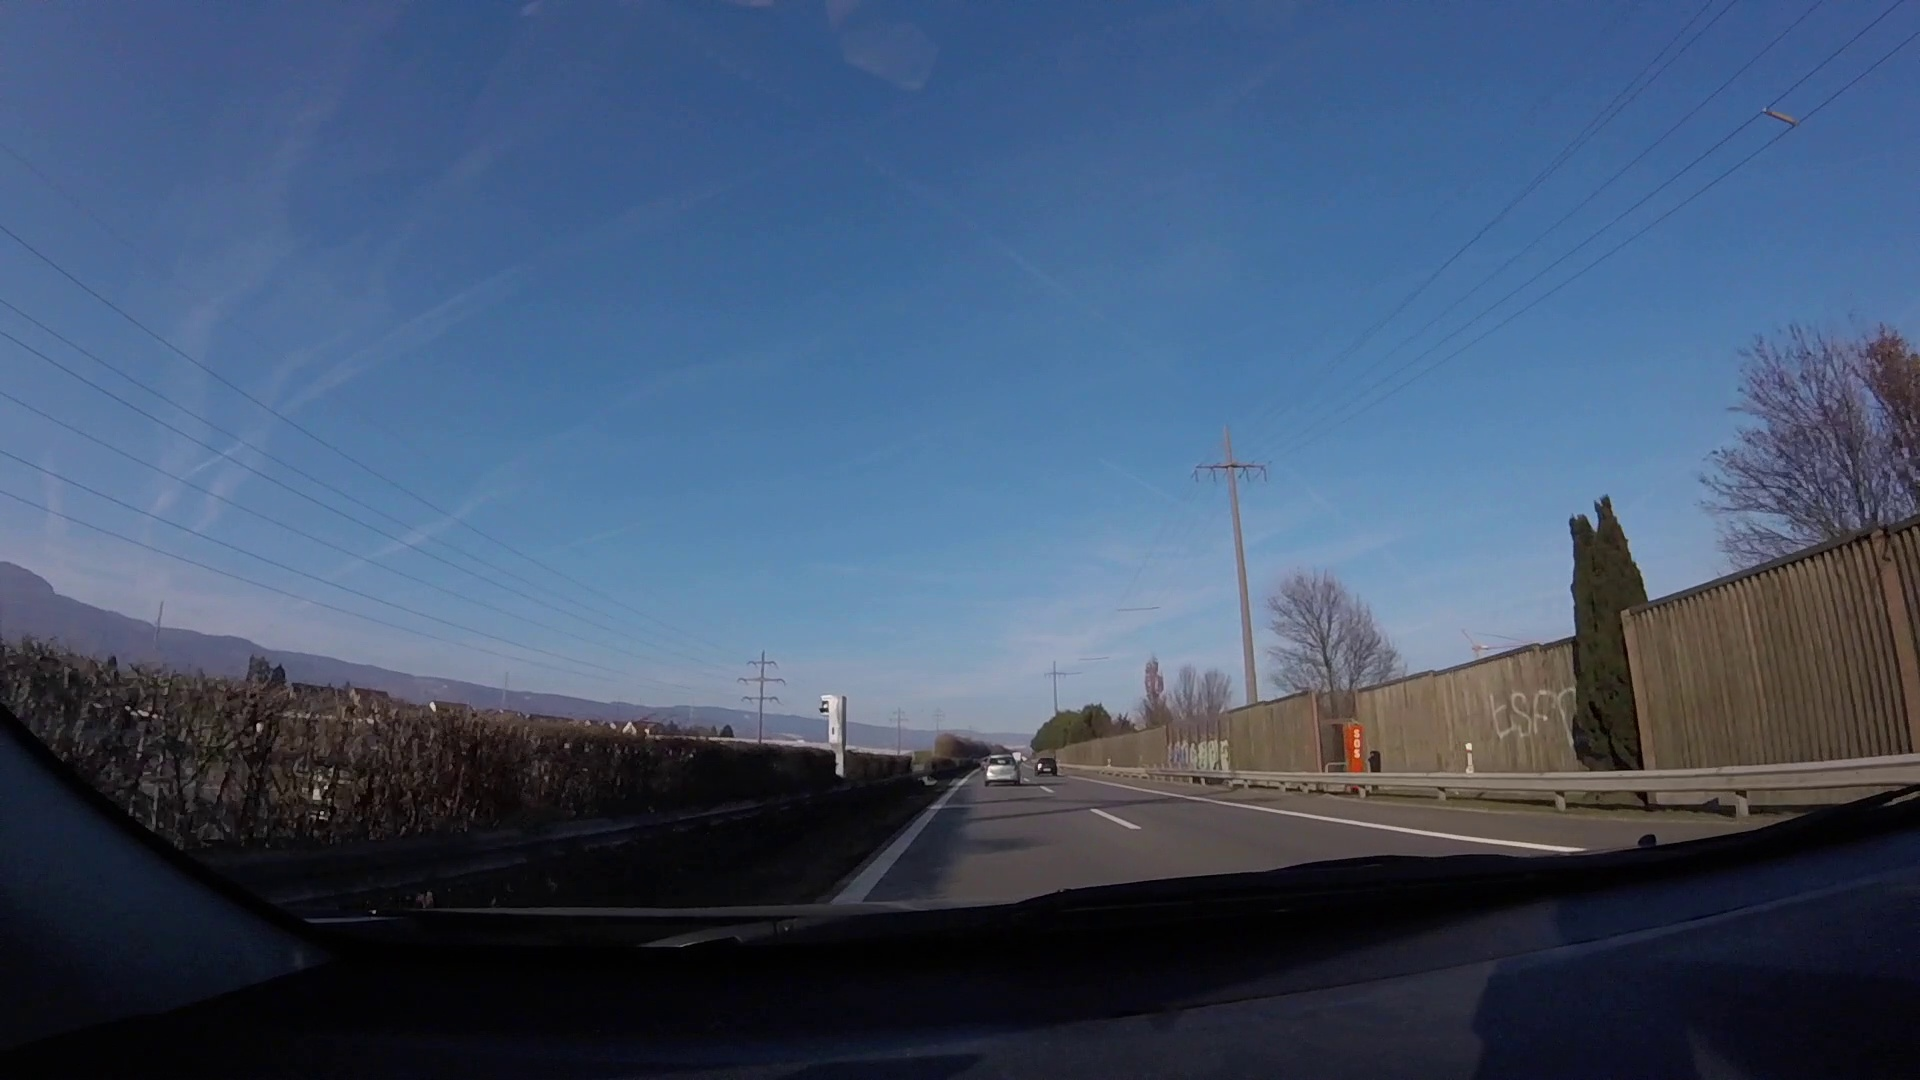radar: (818, 694, 851, 779)
